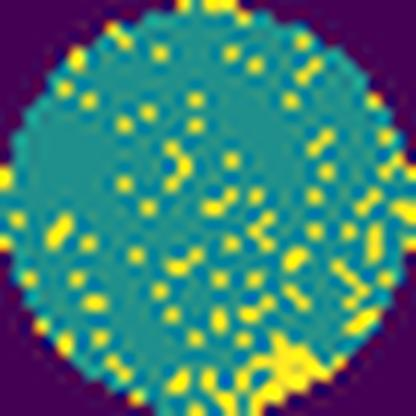Edge-Loc: (194, 325, 354, 416)
